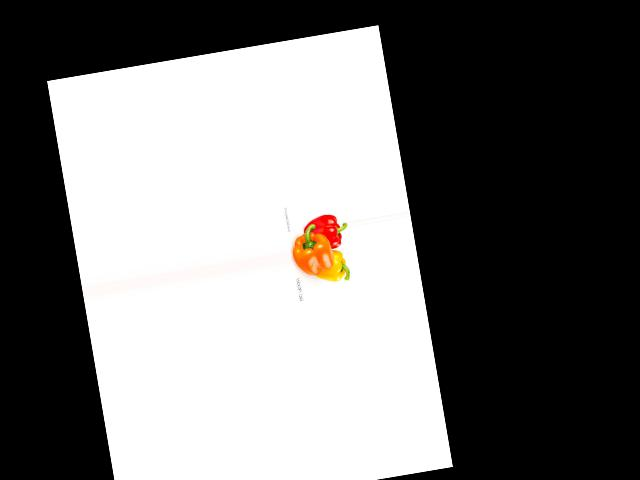bell_pepper: (311, 246, 353, 287)
